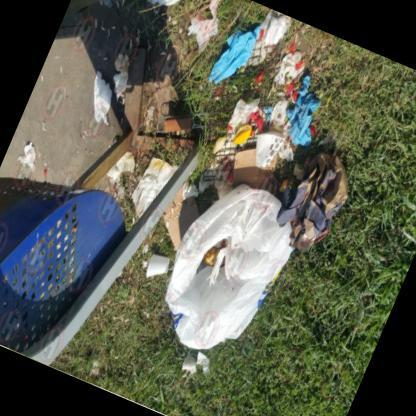Garbage: (135, 164, 310, 382), (250, 112, 380, 274), (268, 61, 346, 162), (195, 2, 270, 100), (128, 0, 241, 61), (226, 8, 297, 82), (73, 53, 137, 130), (186, 228, 240, 294), (214, 92, 265, 152), (178, 342, 216, 388), (9, 127, 46, 174), (134, 246, 174, 288), (249, 132, 282, 168)
